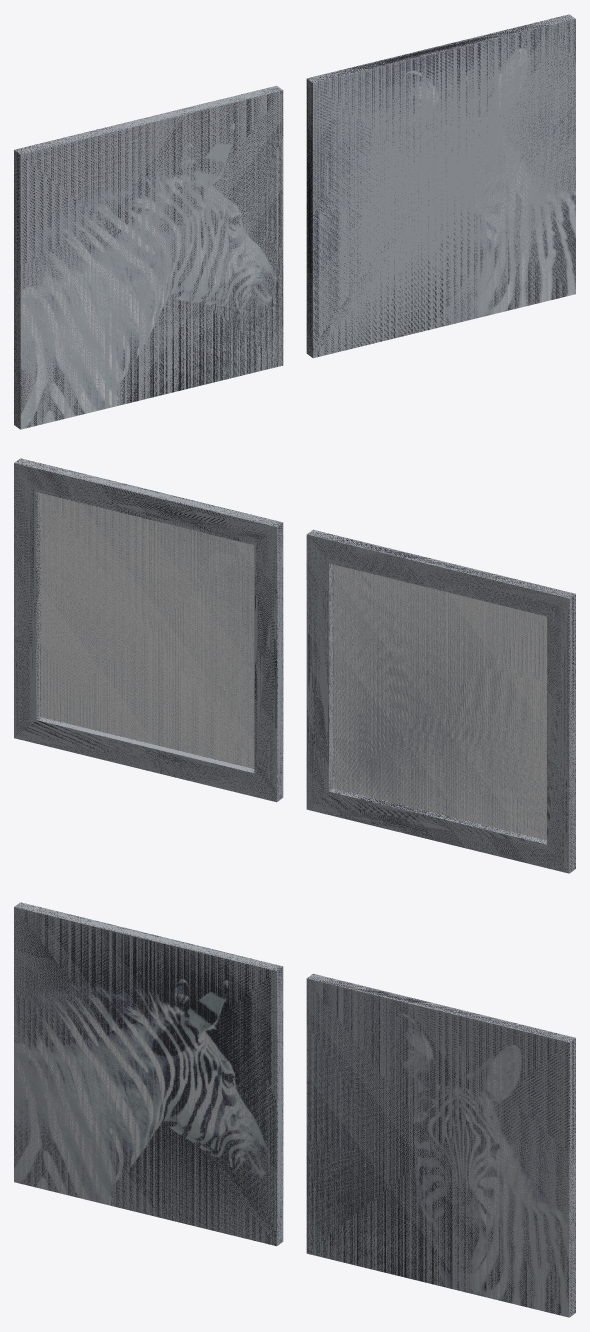
The model's file is prop_tableau_zebras.fbx.
The picture shows the model from 3 angles, top to bottom: view 1: azimuth 30°, elevation 25°; view 2: azimuth 150°, elevation 25°; view 3: azimuth 330°, elevation 25°; orthographic projection.
Parts seen in each view (by area): view 1: Group1, Group2; view 2: Group1, Group2; view 3: Group1, Group2.
Part boxes in pixels (<box>): Group1: <box>306,14,575,358</box>; Group2: <box>14,85,283,429</box>; Group1: <box>14,458,283,802</box>; Group2: <box>306,529,575,873</box>; Group1: <box>306,973,575,1317</box>; Group2: <box>14,902,283,1246</box>.
Bounding box in the file's own units: 1.48 × 0.7 × 0.03.
